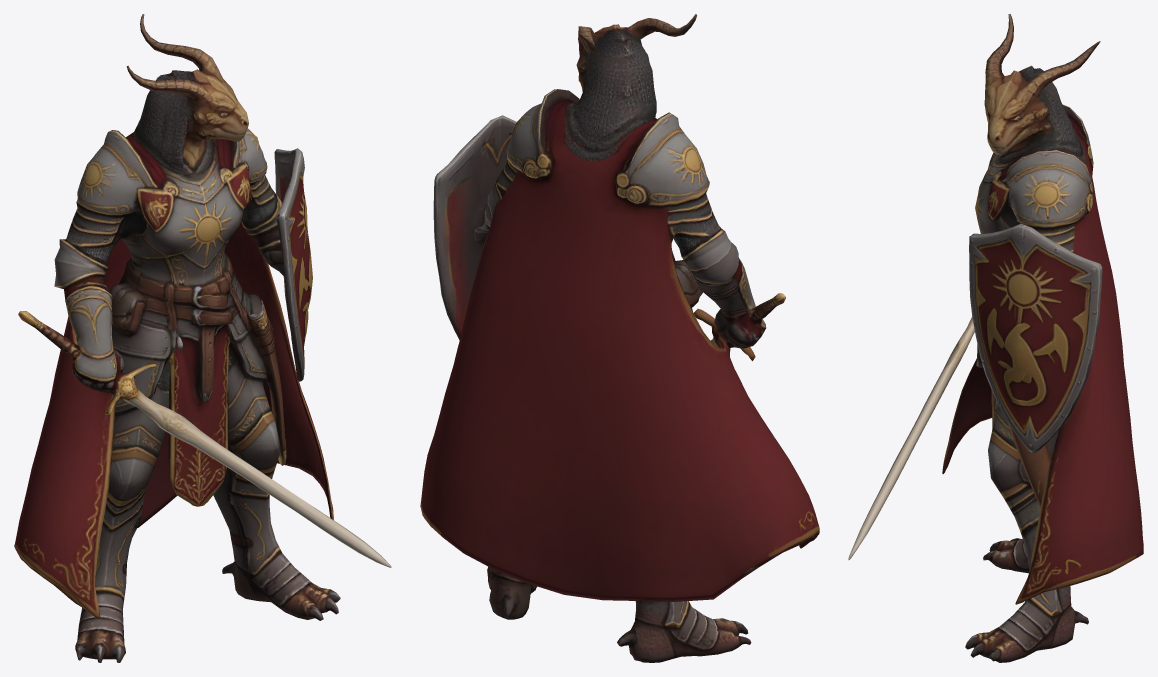
The model's file is Paladina.glb.
3 renders of one model, left to right at view 1: azimuth 30°, elevation 25°; view 2: azimuth 150°, elevation 25°; view 3: azimuth 270°, elevation 25°, orthographic. The views are drawn at different scales.
Parts seen in each view (by area): view 1: tripo_node_424a7466-086d-49be-ba13-ff074f8286ed; view 2: tripo_node_424a7466-086d-49be-ba13-ff074f8286ed; view 3: tripo_node_424a7466-086d-49be-ba13-ff074f8286ed.
Part boxes in pixels (box(x1,y1,x2,y2)): tripo_node_424a7466-086d-49be-ba13-ff074f8286ed: box(14, 14, 391, 662); tripo_node_424a7466-086d-49be-ba13-ff074f8286ed: box(420, 14, 819, 662); tripo_node_424a7466-086d-49be-ba13-ff074f8286ed: box(848, 14, 1143, 662).
Bounding box in the file's own units: 0.5796 × 0.9946 × 0.4741.
Materials: 1 (1 with a texture image).
